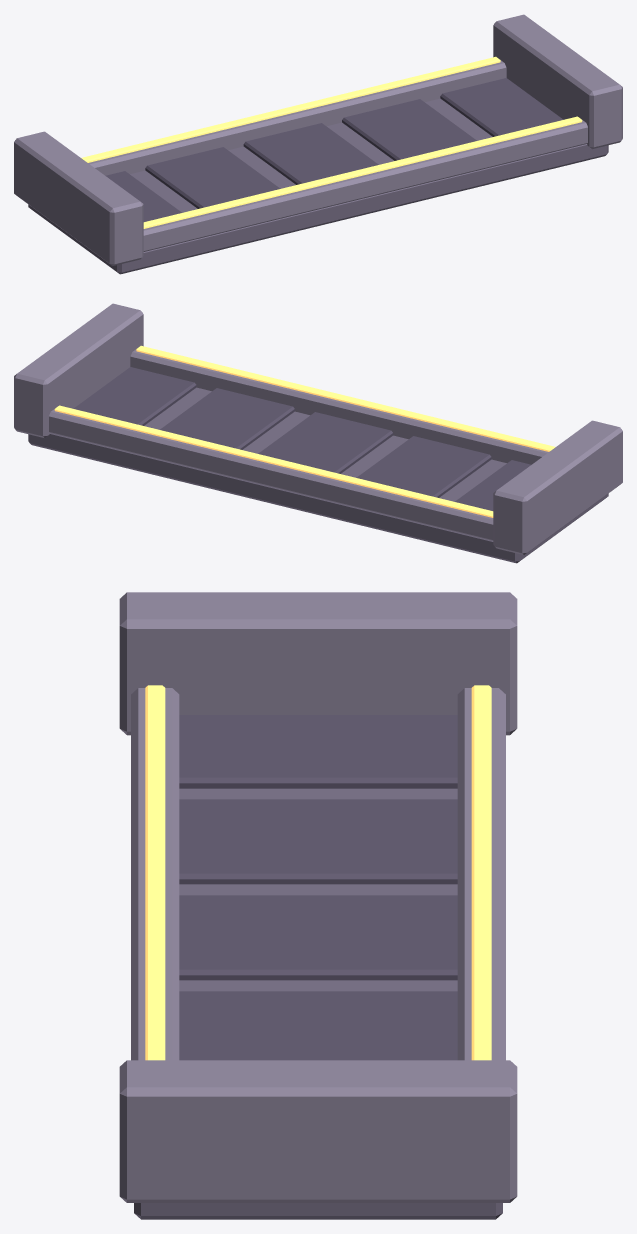
The model's file is ember_obsidian_bridge.glb.
3 renders of one model, top to bottom at view 1: azimuth 30°, elevation 25°; view 2: azimuth 150°, elevation 25°; view 3: azimuth 270°, elevation 25°, orthographic. The views are drawn at different scales.
Visible parts, largest first — view 1: ember_obsidian_bridge.001; view 2: ember_obsidian_bridge.001; view 3: ember_obsidian_bridge.001.
Part boxes in pixels (left/top/right/bottom): ember_obsidian_bridge.001: left=14, top=14, right=622, bottom=274; ember_obsidian_bridge.001: left=14, top=303, right=622, bottom=563; ember_obsidian_bridge.001: left=119, top=592, right=517, bottom=1219.
Size of the model in its own units: 8.35 by 1.11 by 2.8.
